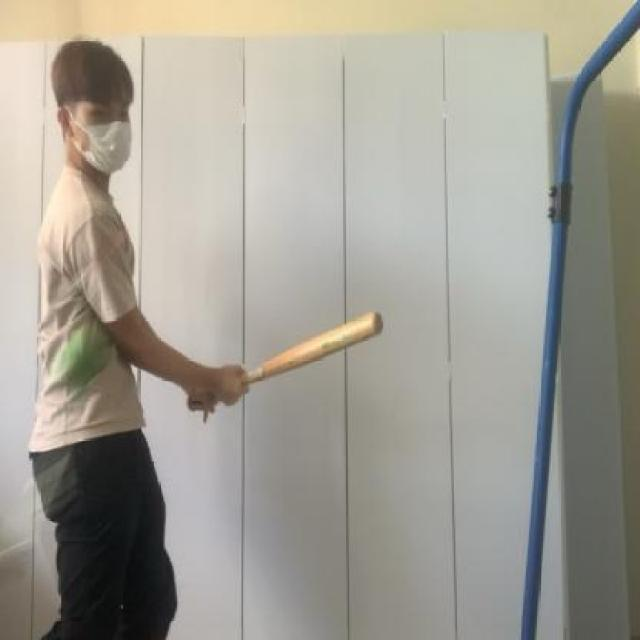baseball: (54, 314, 118, 398)
